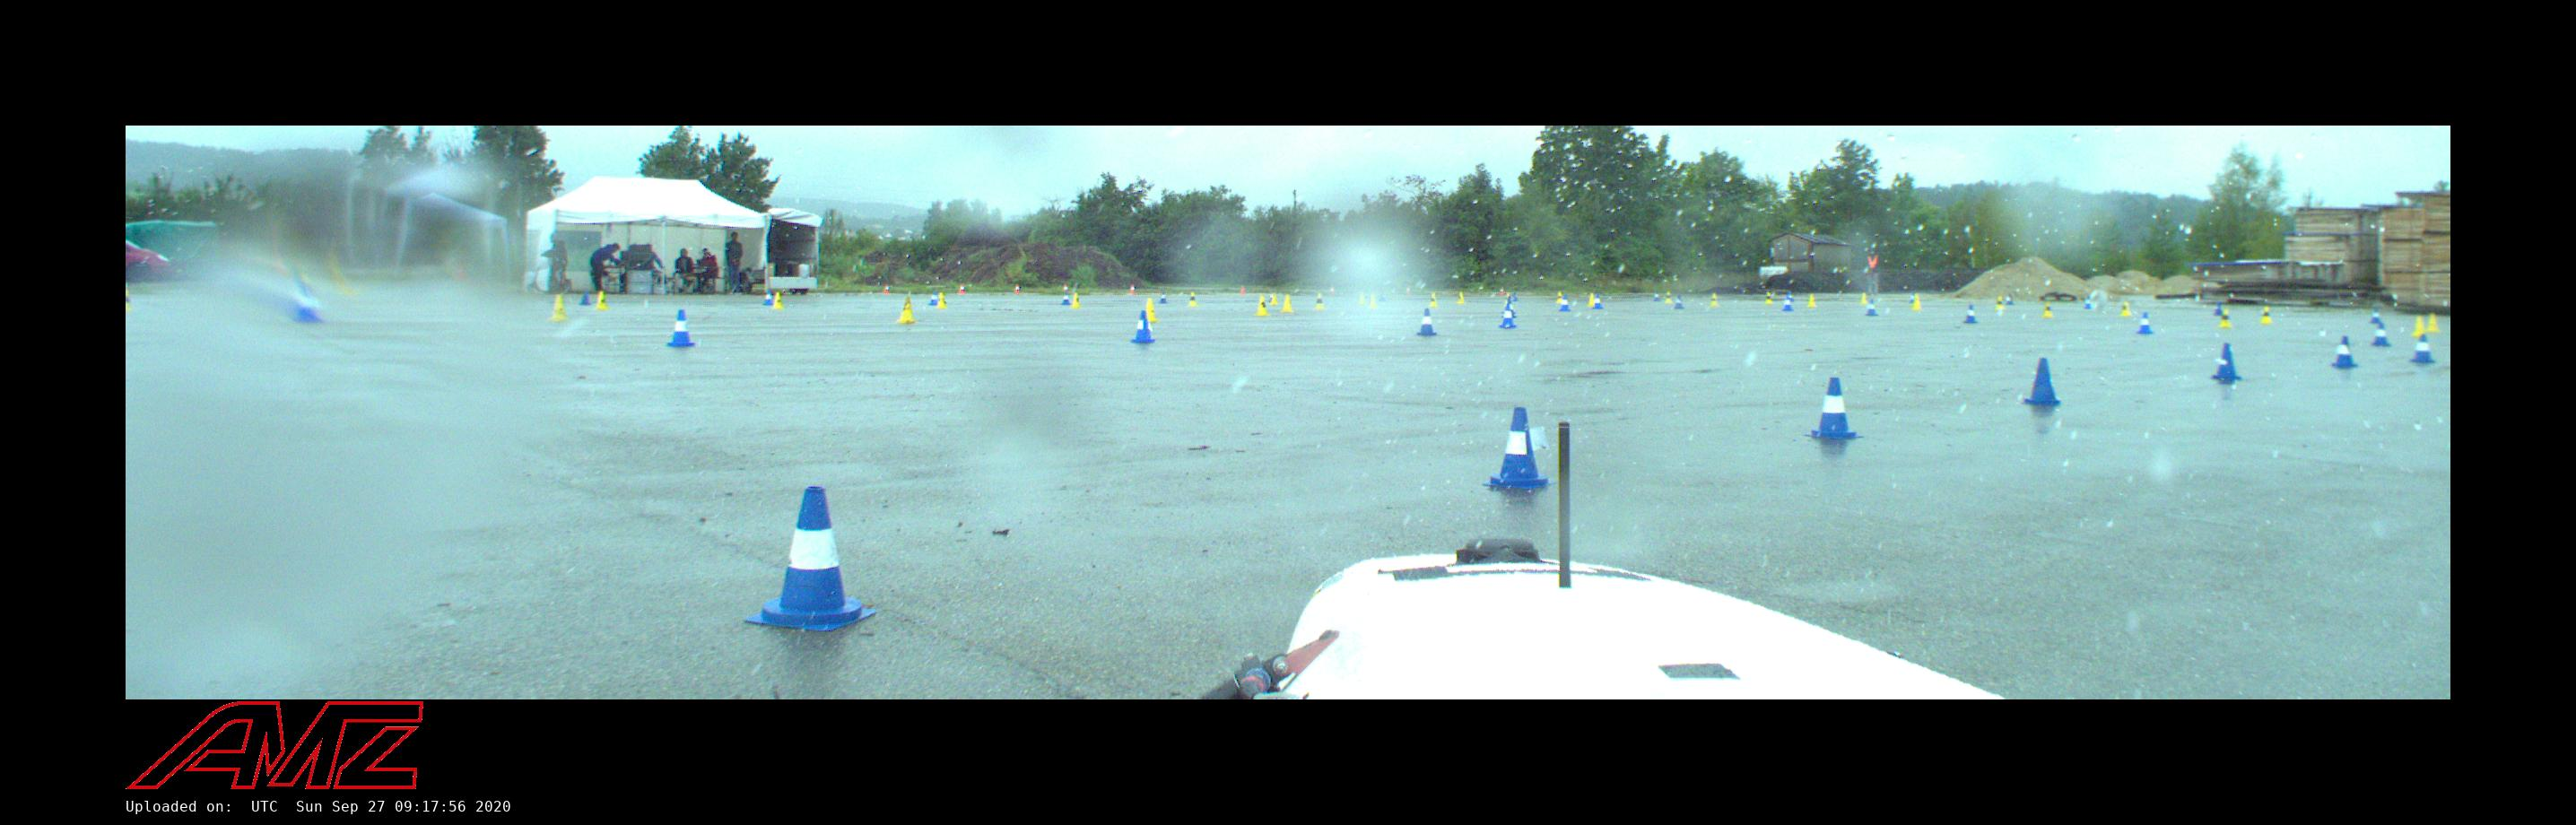blue_cone: (744, 486, 877, 633), (1482, 407, 1555, 491), (1805, 378, 1867, 441), (2022, 358, 2065, 407), (661, 310, 699, 347), (2209, 343, 2243, 383), (290, 285, 320, 322), (2329, 334, 2357, 369), (1129, 310, 1157, 343), (2409, 334, 2438, 363), (1417, 310, 1438, 336), (2370, 323, 2389, 346), (2135, 312, 2154, 334), (1499, 304, 1517, 327), (1501, 296, 1517, 318), (1962, 305, 1980, 324), (1865, 299, 1878, 316), (2370, 308, 2383, 323), (579, 290, 592, 305), (927, 287, 936, 306), (762, 290, 773, 306), (1782, 296, 1793, 311), (1560, 296, 1571, 311), (2212, 301, 2223, 316), (1593, 294, 1603, 309), (1158, 291, 1169, 304), (1060, 291, 1070, 306), (2004, 292, 2015, 305), (2083, 295, 2093, 308), (1675, 295, 1684, 308), (1653, 290, 1661, 302), (1908, 291, 1915, 303), (1512, 291, 1519, 301), (1788, 291, 1794, 301)
orange_cone: (957, 283, 967, 294), (1128, 283, 1137, 293), (1014, 282, 1021, 293), (1328, 285, 1336, 294), (1240, 285, 1247, 294), (1062, 284, 1069, 293), (883, 284, 890, 293), (1499, 287, 1505, 295)
yellow_cone: (546, 296, 570, 321), (897, 296, 918, 324), (1254, 296, 1271, 317), (2410, 316, 2427, 335), (593, 291, 610, 310), (2425, 312, 2440, 333), (770, 292, 786, 309), (2219, 309, 2233, 328), (2260, 306, 2274, 324), (2041, 301, 2055, 317), (1148, 298, 1157, 323), (126, 283, 134, 310), (1282, 295, 1294, 312), (936, 291, 948, 309), (1185, 292, 1199, 307), (2120, 300, 2134, 316), (1367, 293, 1379, 308), (1070, 292, 1081, 308), (1709, 292, 1720, 307), (1314, 294, 1325, 309), (1912, 295, 1922, 310), (1806, 294, 1817, 307), (1995, 296, 2005, 309), (1269, 292, 1279, 306), (1586, 291, 1595, 306), (1455, 291, 1466, 303), (1858, 291, 1867, 305), (1430, 294, 1438, 308), (1357, 291, 1365, 304), (1554, 291, 1562, 303), (1764, 292, 1773, 303), (1666, 291, 1673, 303)
